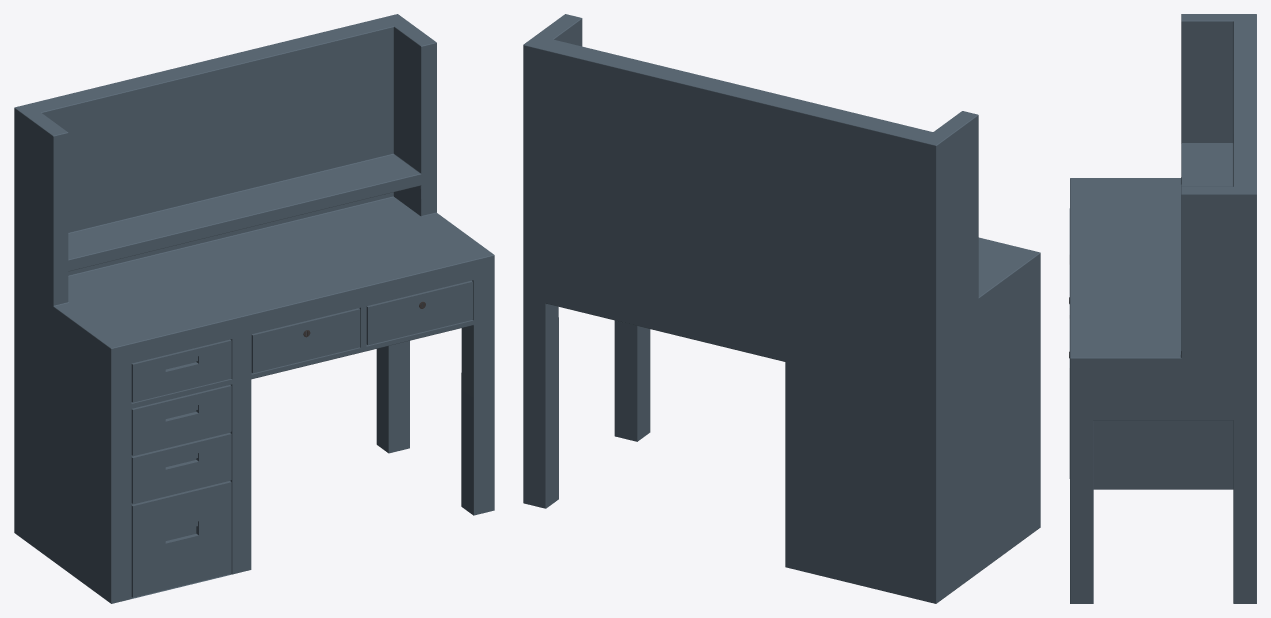
The model's file is Desk.fbx.
3 views of the same model, side by side, from view 1: azimuth 30°, elevation 25°; view 2: azimuth 150°, elevation 25°; view 3: azimuth 270°, elevation 25° (orthographic). The views are drawn at different scales.
Visible parts, largest first — view 1: Cube, Drawer6, Drawer5, Drawer4, Drawer2, Drawer3, Drawer1; view 2: Cube; view 3: Cube.
Boxes of the visible parts, <box> form: Cube: <box>14,14,494,603</box>; Drawer6: <box>131,481,231,597</box>; Drawer5: <box>131,433,231,503</box>; Drawer4: <box>131,385,231,455</box>; Drawer2: <box>251,308,360,373</box>; Drawer3: <box>366,280,472,345</box>; Drawer1: <box>131,339,231,402</box>; Cube: <box>523,14,1040,603</box>; Cube: <box>1070,14,1256,603</box>.
Size of the model in its own units: 5311 by 5627 by 2339.
